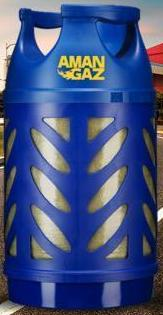cylinder: (0, 1, 163, 315)
